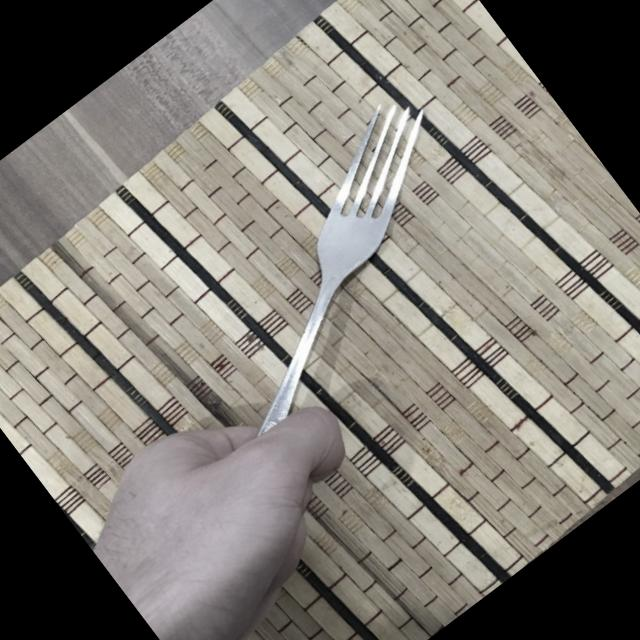fork: (94, 81, 540, 492)
